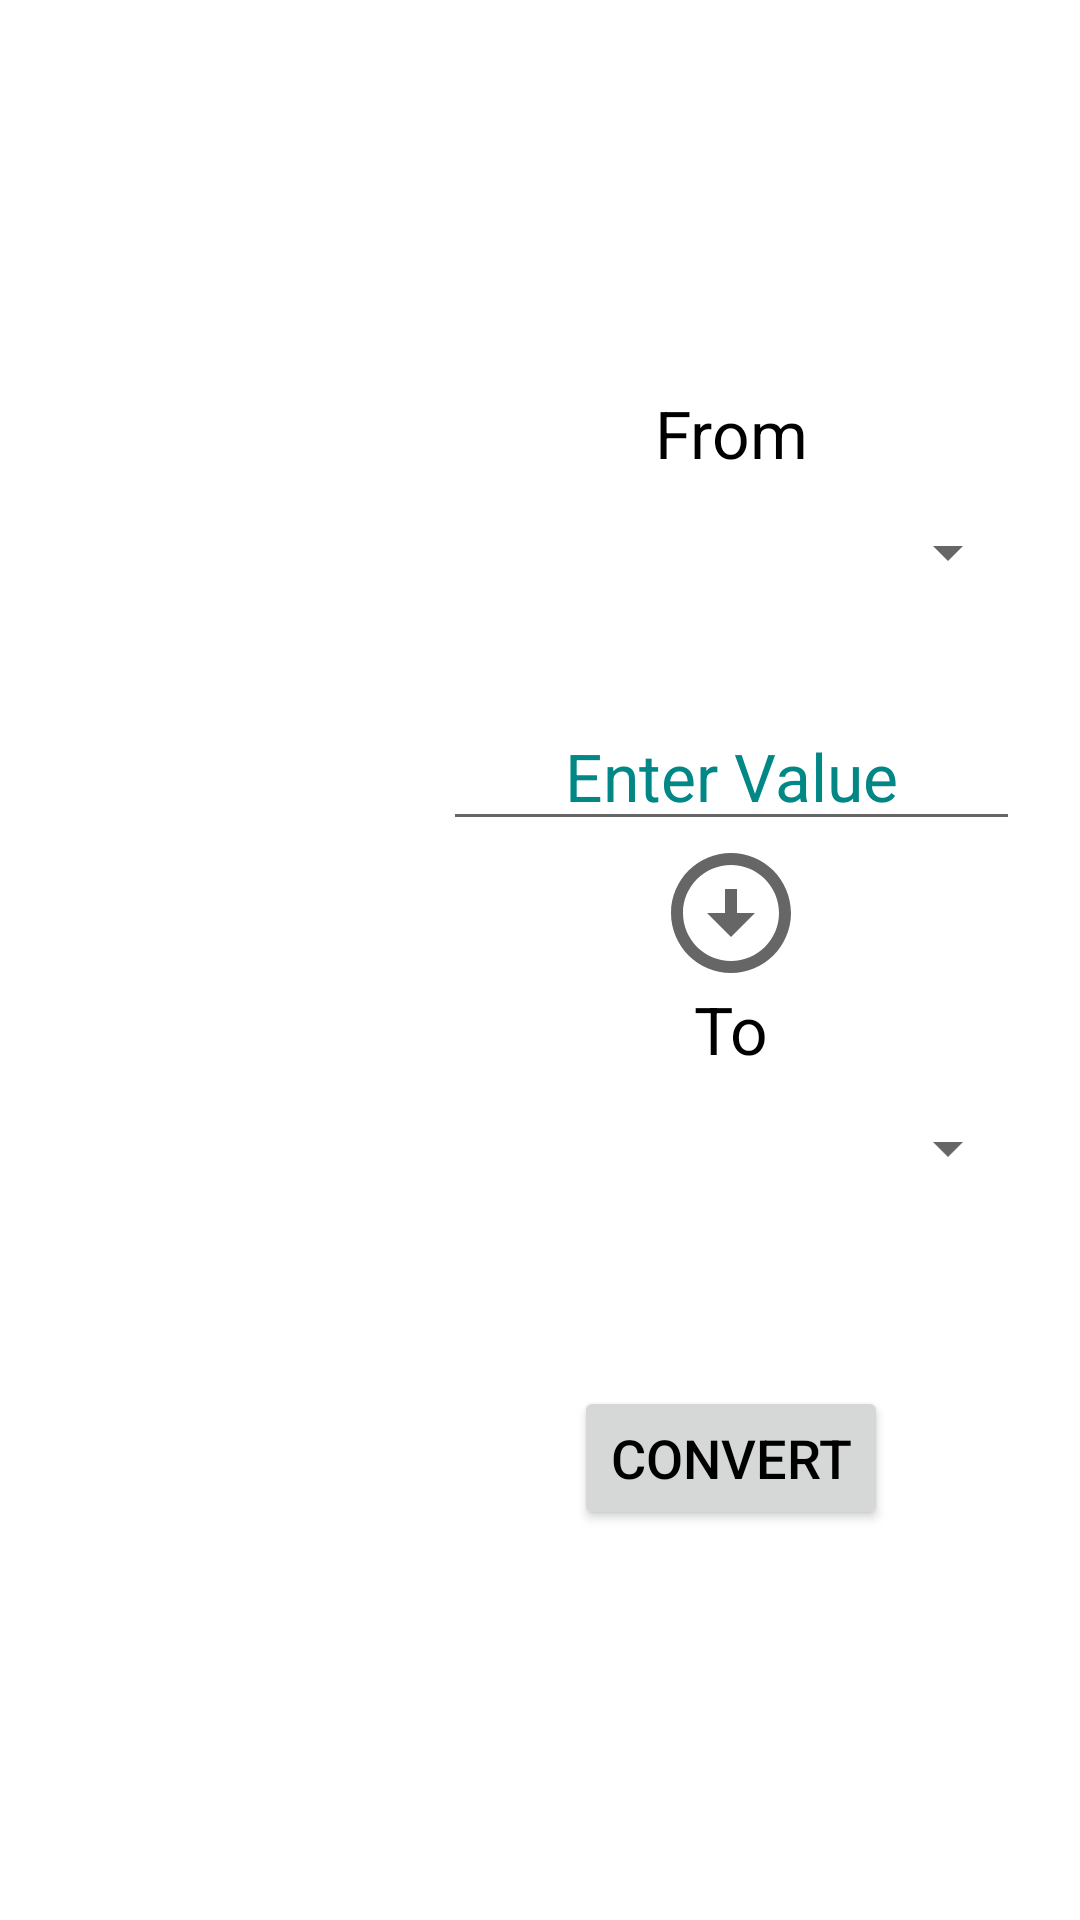

Named icons in this screenshot (1080px x 1920px) and their bounding boxes, (x1, y1, x2, y2):
Convert To: (671, 853, 791, 973)
